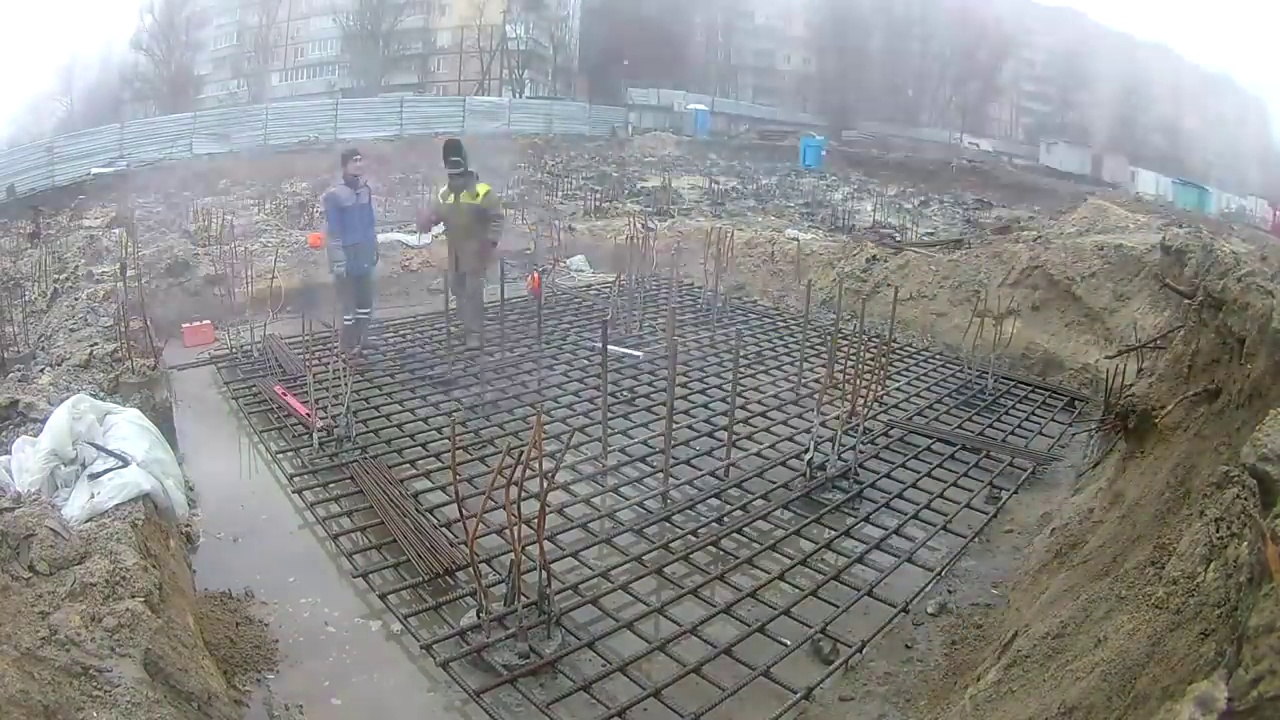helmet: (526, 267, 541, 301), (306, 229, 324, 250)
helmet-off: (440, 140, 474, 187), (339, 145, 367, 190)
person: (411, 142, 497, 327), (321, 145, 381, 360)
